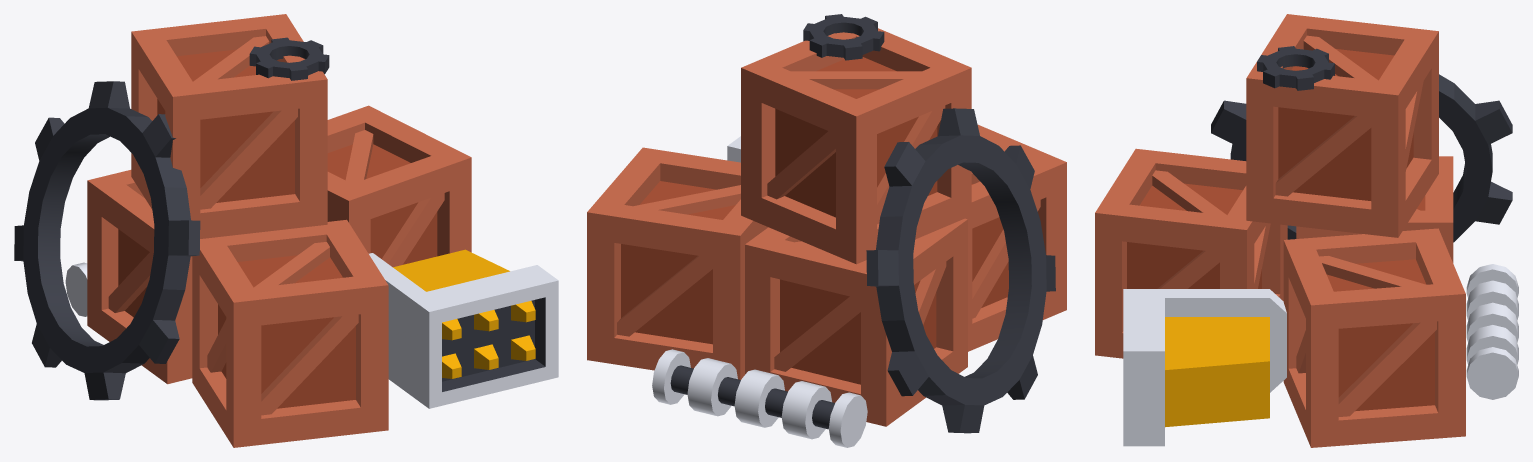
Rendered from Rubbles.fbx.
3 views of the same model, side by side, from view 1: azimuth 30°, elevation 25°; view 2: azimuth 150°, elevation 25°; view 3: azimuth 270°, elevation 25° (orthographic). The views are drawn at different scales.
Visible parts, largest first — view 1: mergedBlocks; view 2: mergedBlocks; view 3: mergedBlocks.
Part boxes in pixels (bbox=[...]): mergedBlocks: bbox=[14, 14, 558, 447]; mergedBlocks: bbox=[587, 14, 1066, 447]; mergedBlocks: bbox=[1095, 14, 1518, 447].
Bounding box in the file's own units: 16.41 × 12.84 × 16.17.
